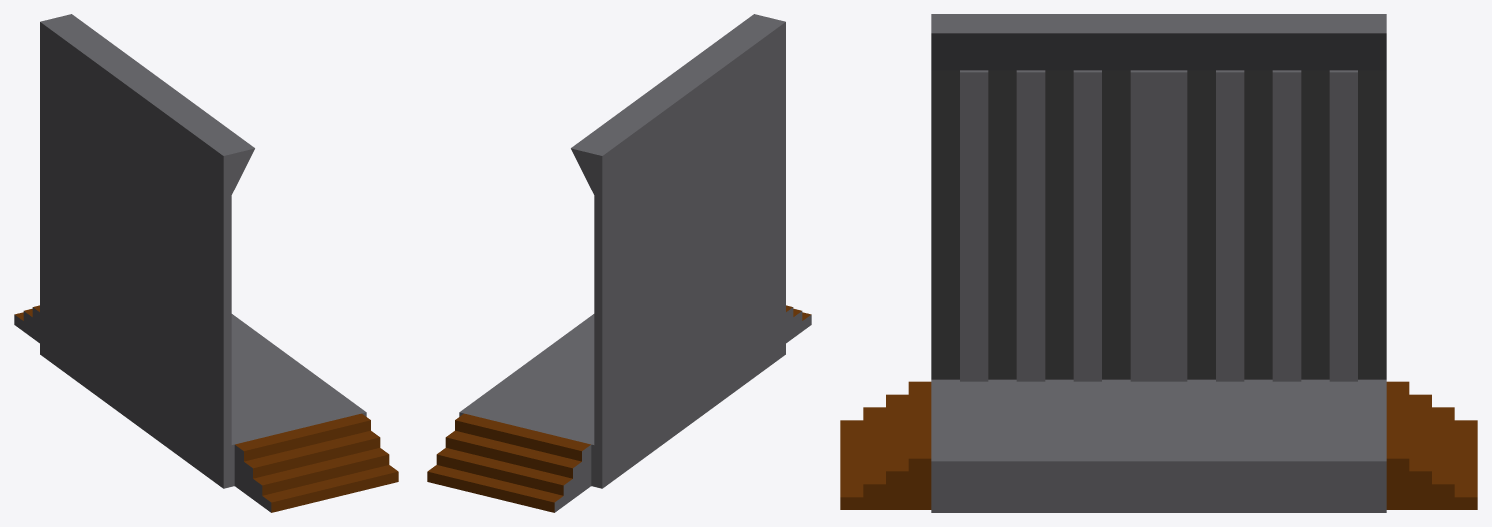
Rendered from PodiumsWand.fbx.
The picture shows the model from 3 angles, left to right: view 1: azimuth 30°, elevation 25°; view 2: azimuth 150°, elevation 25°; view 3: azimuth 270°, elevation 25°; orthographic projection. The views are drawn at different scales.
Visible parts, largest first — view 1: Podiums wand; view 2: Podiums wand; view 3: Podiums wand.
Boxes of the visible parts, x1=… form: Podiums wand: x1=14, y1=14, x2=398, y2=512; Podiums wand: x1=427, y1=14, x2=811, y2=512; Podiums wand: x1=840, y1=14, x2=1477, y2=512.
Size of the model in its own units: 900 by 2000 by 2800.
